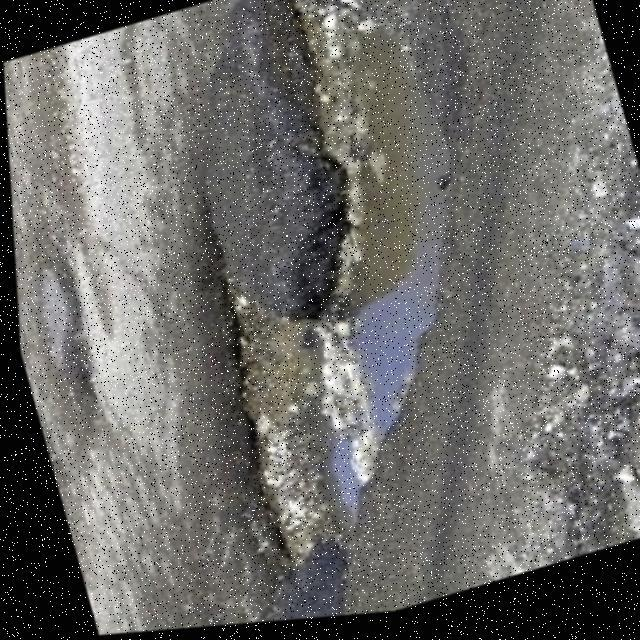pothole: (113, 0, 555, 589)
